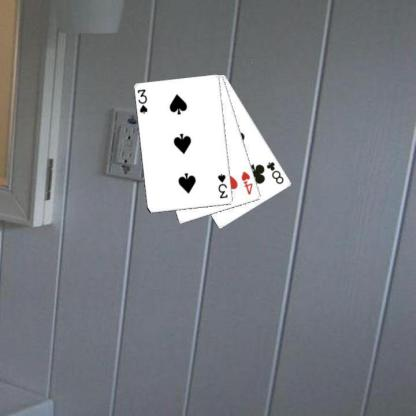3S: (216, 172, 230, 200), (135, 87, 149, 115)
4H: (239, 169, 254, 196)
8C: (264, 160, 285, 186)
